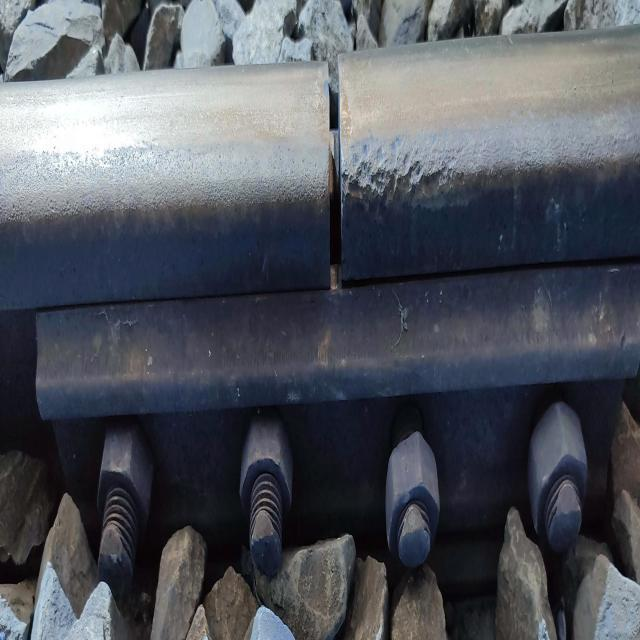Good Joint: (35, 324, 640, 568)
